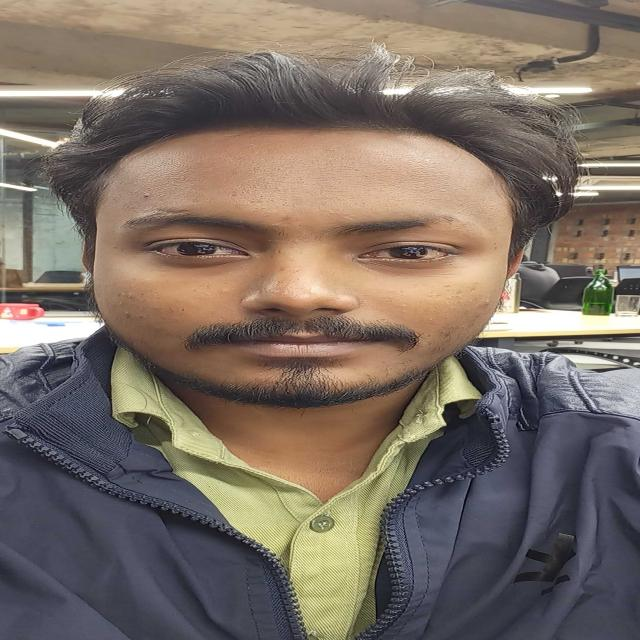Acne: (110, 284, 141, 309), (117, 190, 163, 202), (389, 298, 418, 317), (106, 310, 141, 321), (473, 297, 500, 311), (416, 314, 443, 326)
